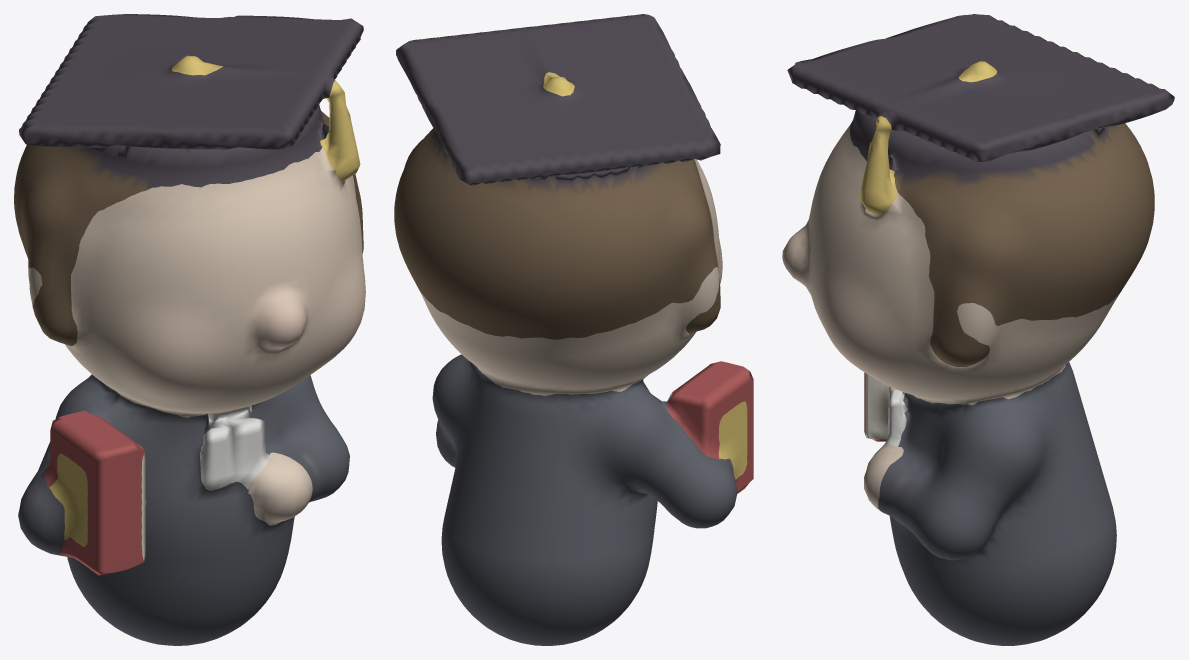
Rendered from rider_c06.glb.
3 views of the same model, side by side, from view 1: azimuth 30°, elevation 25°; view 2: azimuth 150°, elevation 25°; view 3: azimuth 270°, elevation 25° (orthographic). The views are drawn at different scales.
Visible parts, largest first — view 1: rider_c06; view 2: rider_c06; view 3: rider_c06.
Part boxes in pixels (x1,y1,x2,y2): rider_c06: [14, 14, 365, 645]; rider_c06: [394, 14, 753, 645]; rider_c06: [782, 14, 1174, 645].
Size of the model in its own units: 25.88 by 41.57 by 25.78.
